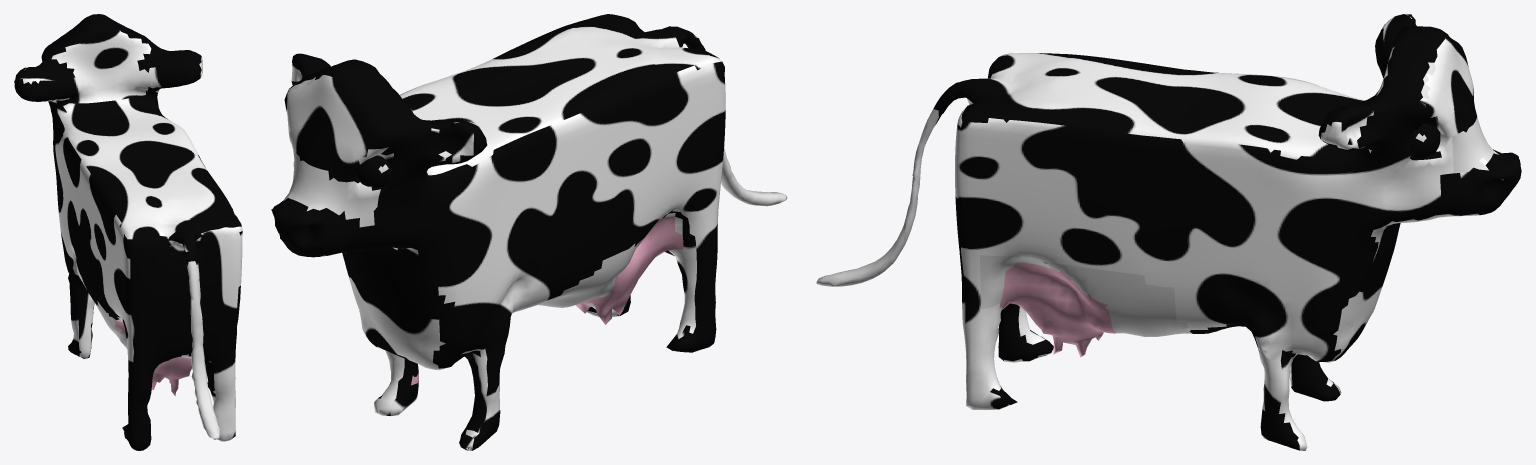
The model's file is Cow.fbx.
3 views of the same model, side by side, from view 1: azimuth 30°, elevation 25°; view 2: azimuth 150°, elevation 25°; view 3: azimuth 270°, elevation 25° (orthographic). The views are drawn at different scales.
Parts seen in each view (by area): view 1: Cow.012; view 2: Cow.012; view 3: Cow.012.
Boxes of the visible parts, x1,y1,x2,y2 form: Cow.012: (14,14,242,450); Cow.012: (271,14,787,450); Cow.012: (816,14,1521,450).
Size of the model in its own units: 562 by 804 by 1266.
